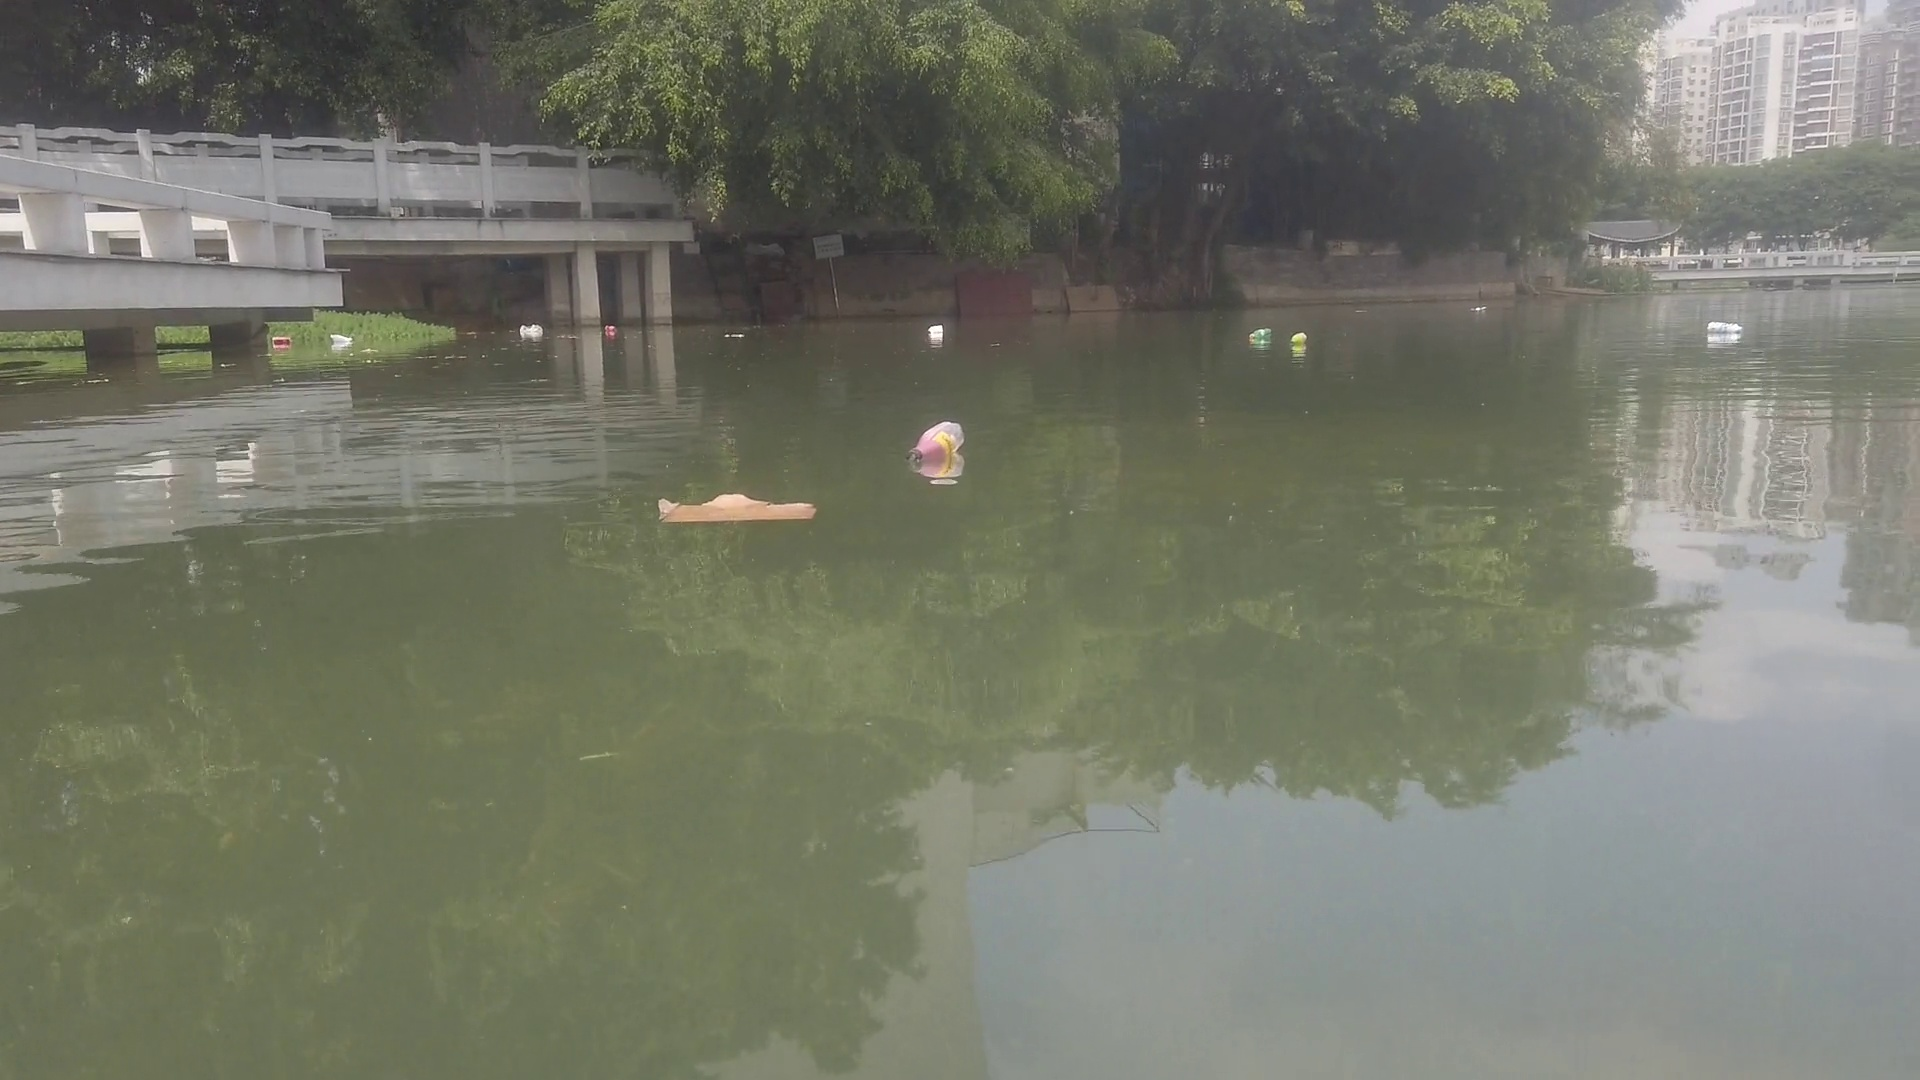bottle: (909, 415, 967, 471), (1704, 316, 1745, 338), (266, 330, 295, 349), (1288, 330, 1313, 348), (1246, 324, 1270, 342), (601, 323, 617, 338)
carton: (927, 320, 942, 339)
paper: (658, 487, 818, 524), (720, 330, 750, 343)
plastic: (517, 320, 545, 338), (328, 330, 355, 344)
